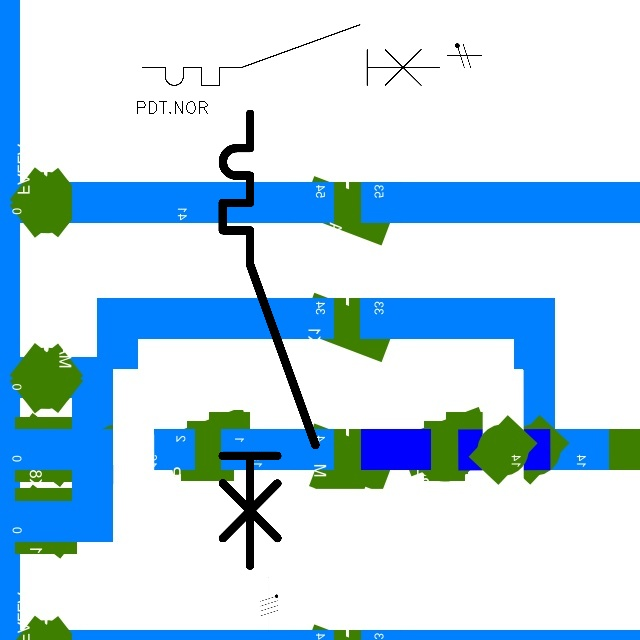interruptor_termomagnetico: (211, 102, 327, 577), (135, 17, 446, 93)
